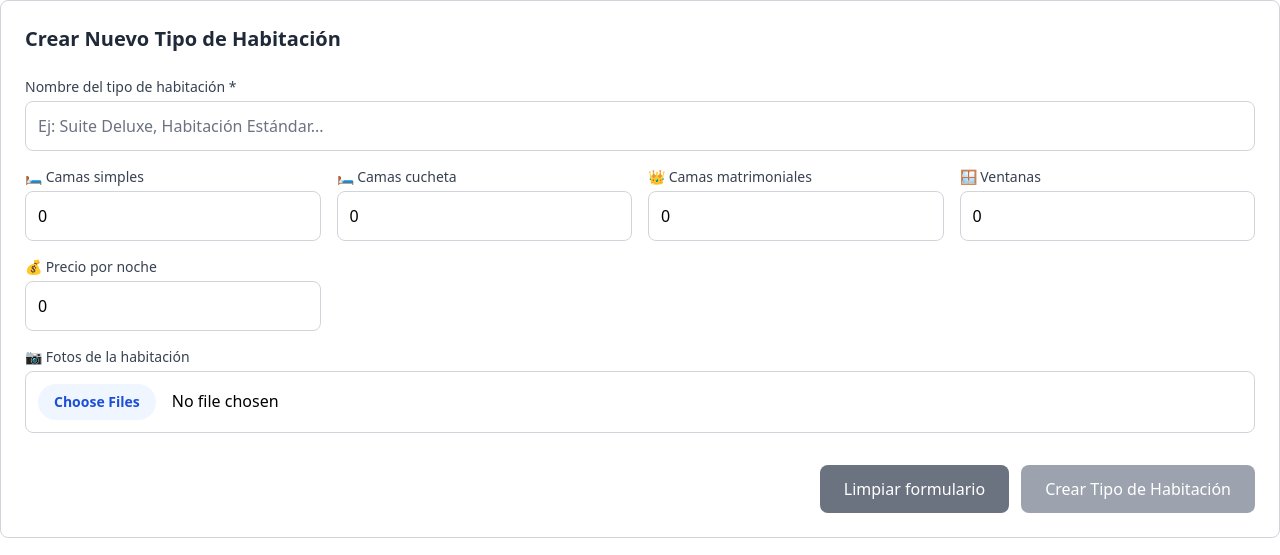
RoomTypeForm › resetea el formulario correctamente
Type "Reset Room" into the field labelled "Nombre del tipo de habitación *" at (640, 126), box [25,101,1255,151]
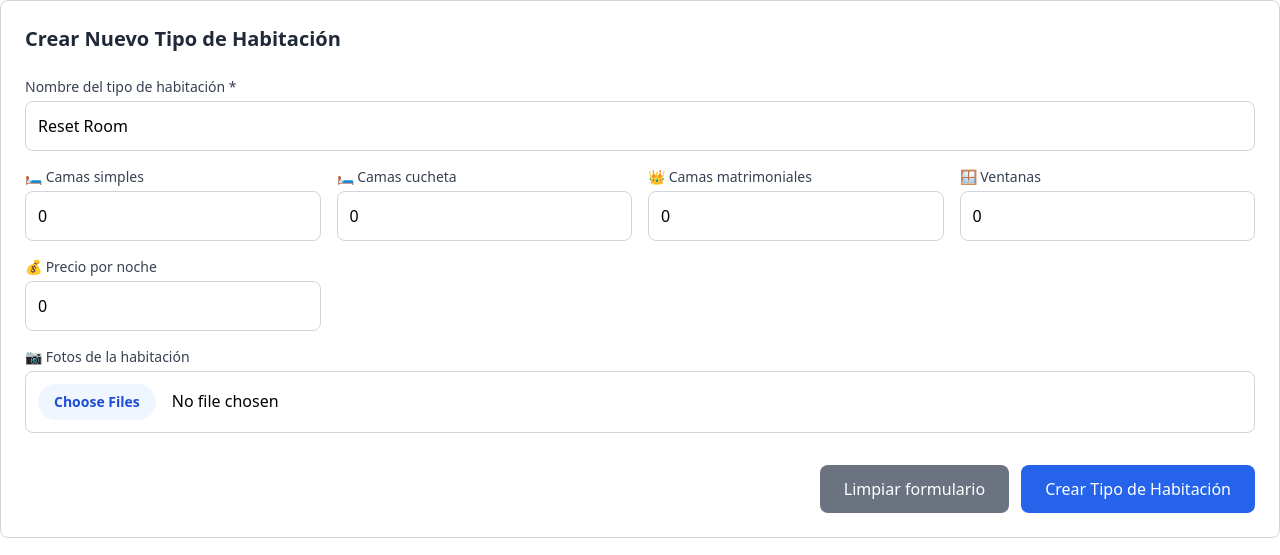
Click the button "Limpiar formulario" at (914, 489), box [820,465,1009,513]
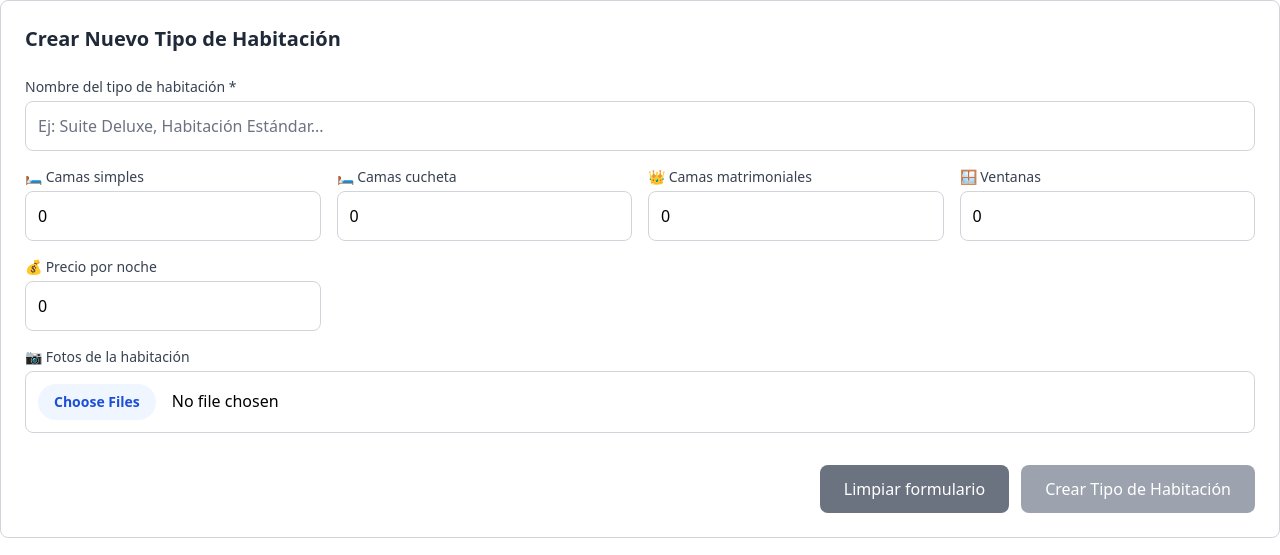
Expected: the number field labelled "🛏️ Camas simples" holds "0", [25,191,320,241]
Now the field labelled "Nombre del tipo de habitación *" is empty, box [25,101,1255,151]
